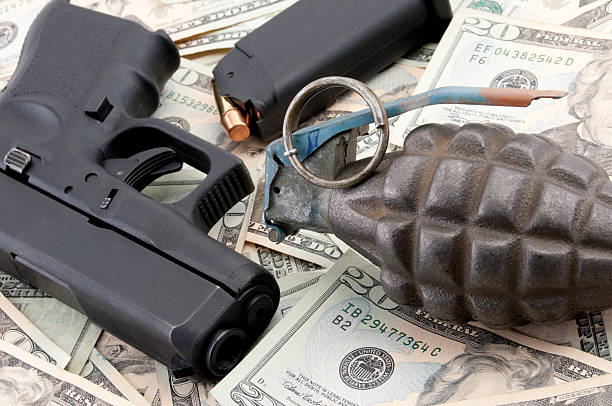e1: (256, 78, 612, 329)
